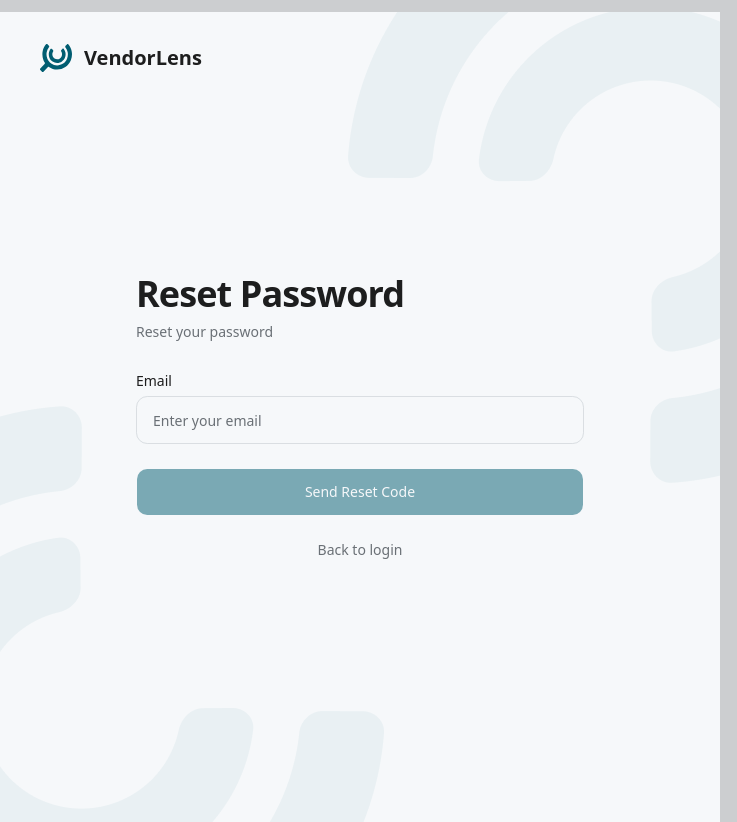
Scenario: ForgotPasswordPage › Step 1 - email › shows email required error when touched and empty
Click the field with test id "email-input" at (360, 420), box top-left (136, 396), bottom-right (584, 444)
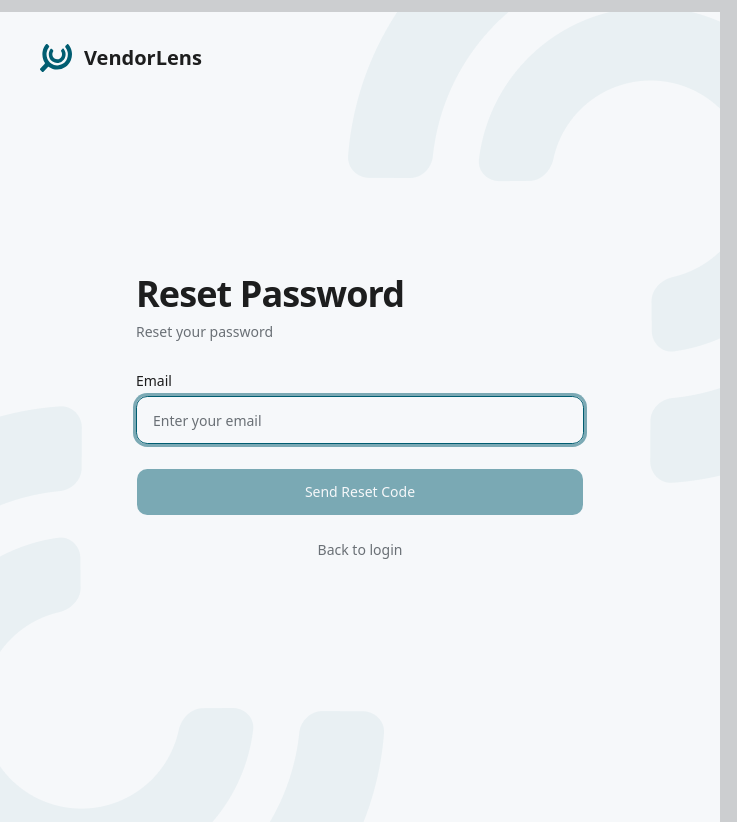
Press Tab
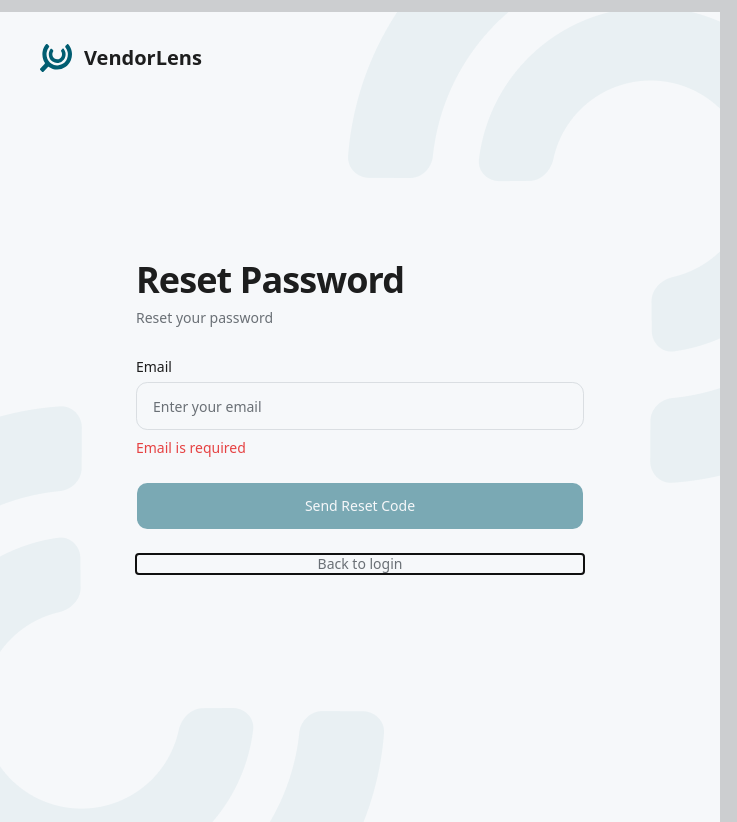
Result: the text "Email is required" is shown at top-left (136, 438), bottom-right (246, 457)
